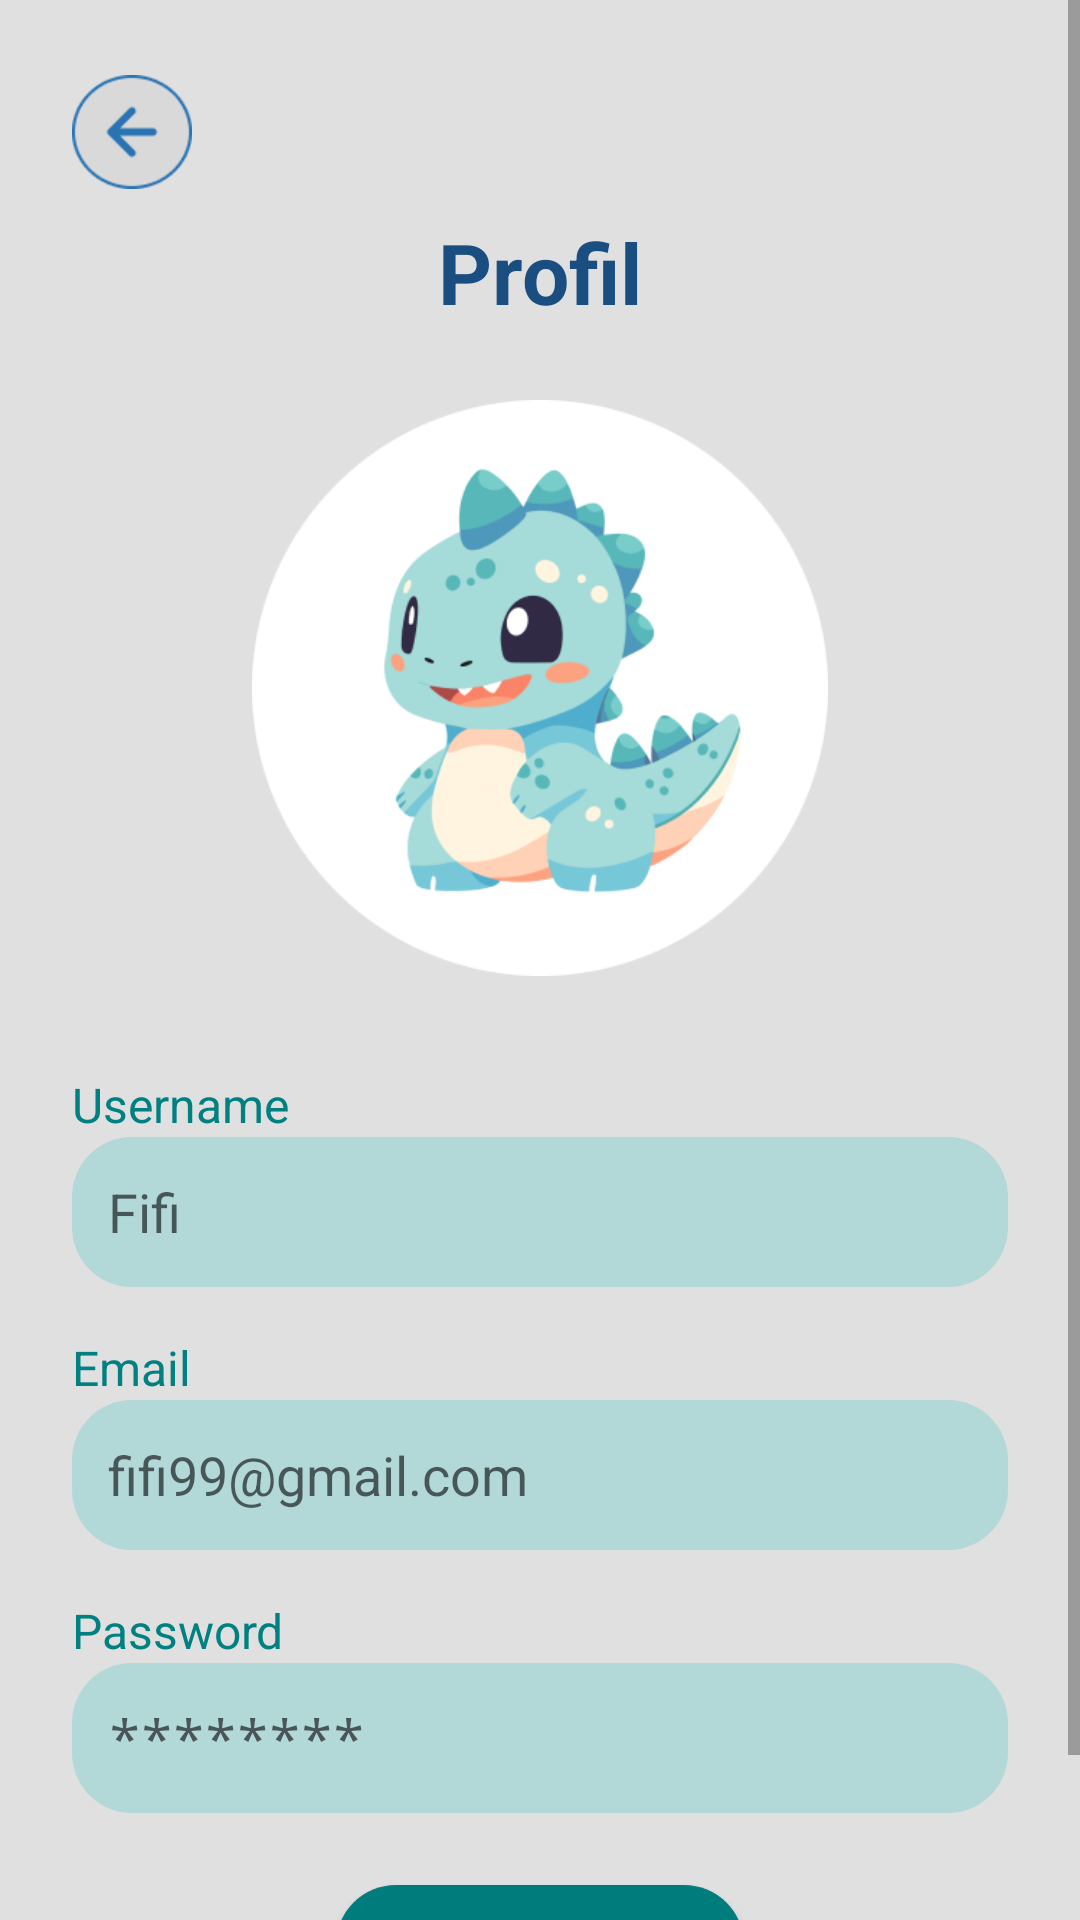

Locate icon controls on the screen. Image size 1080px×1920px, boxes as (x1, y1, x2, y2).
Back: (72, 75, 192, 189)
